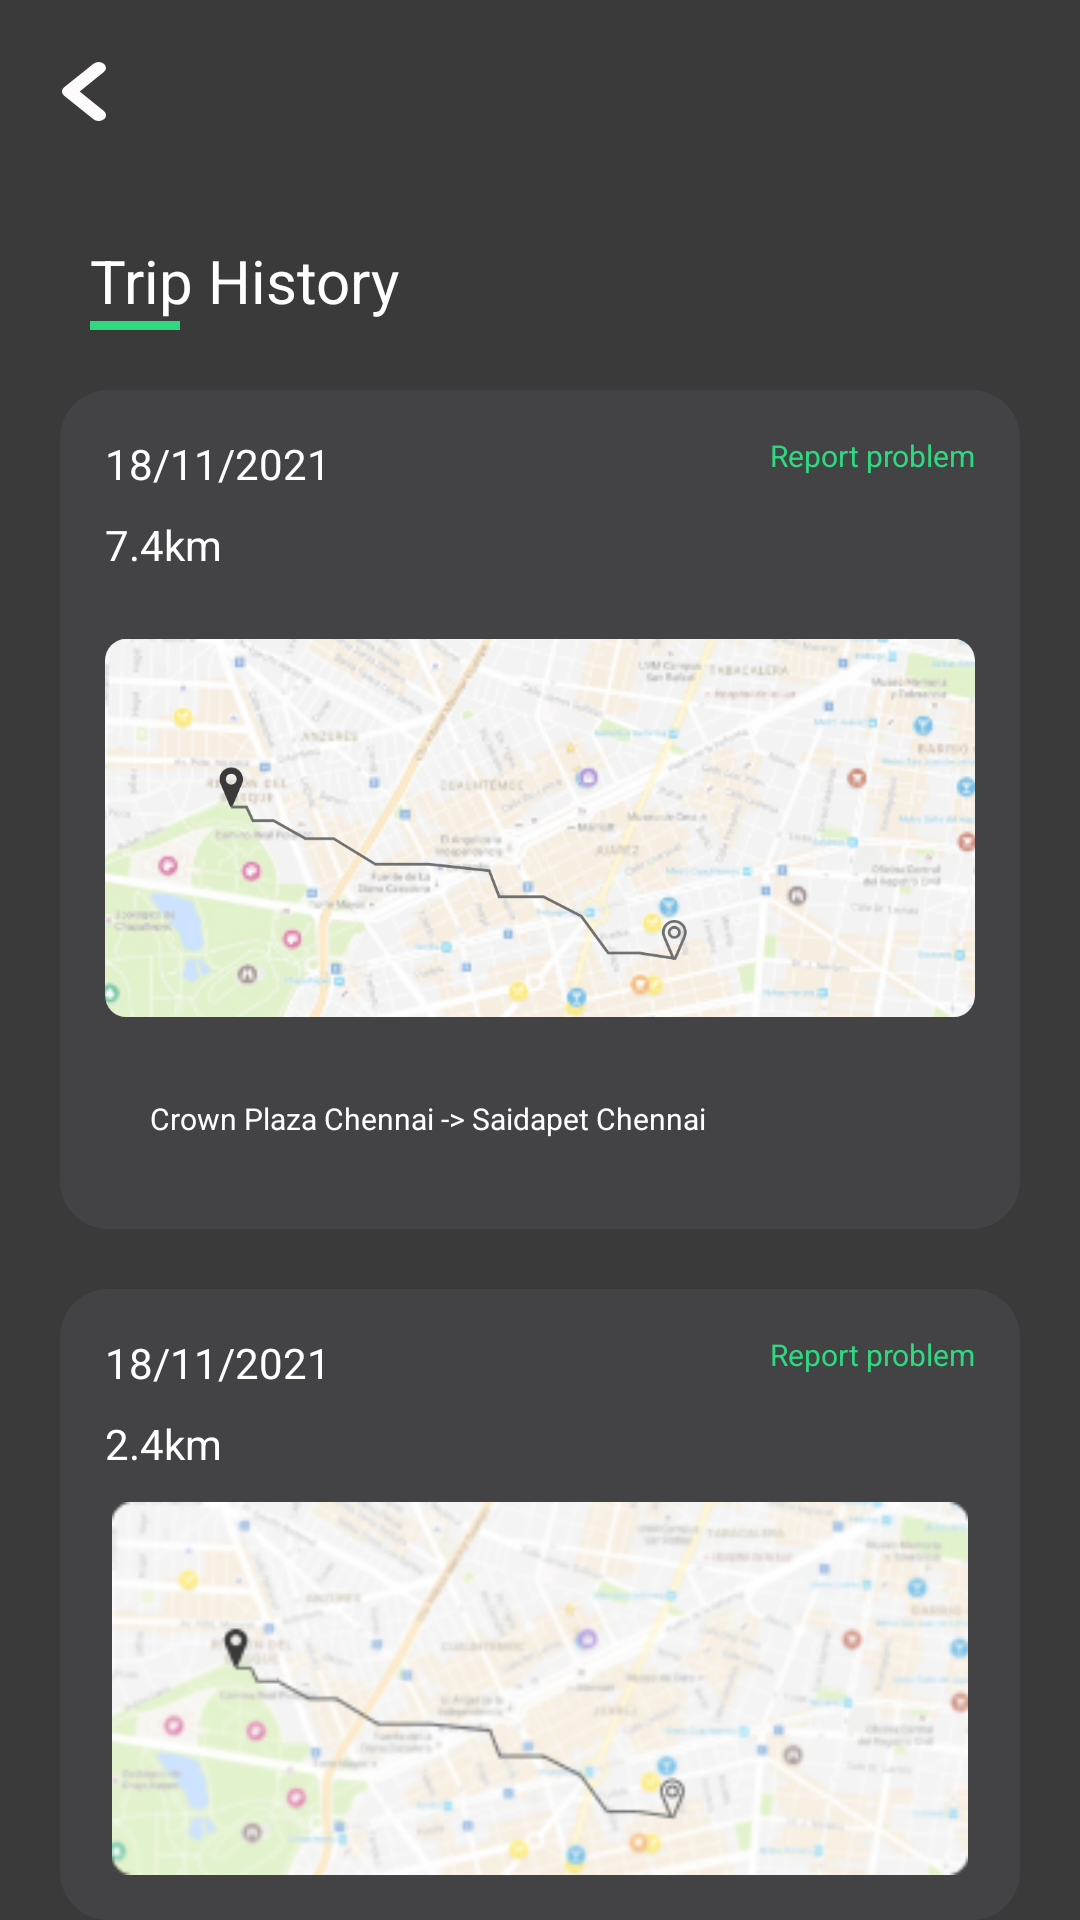

Point at icon controls on the screen. Image size 1080×1920, points as point (x, y).
back: point (84, 91)
